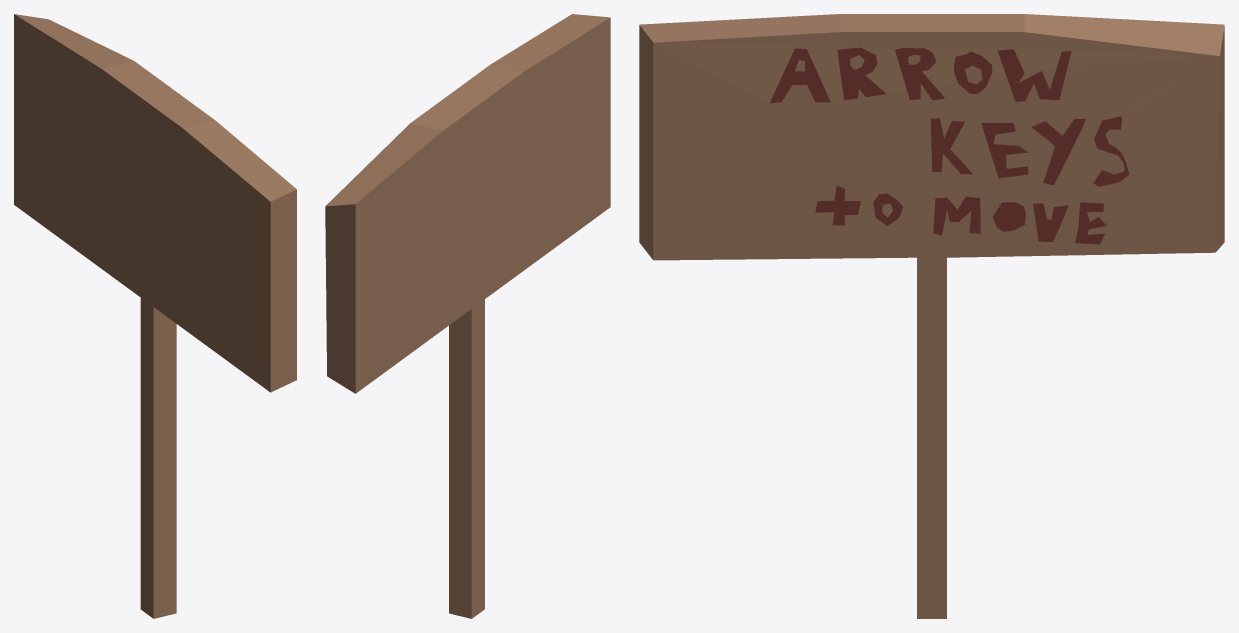
The model's file is Signnnn.fbx.
3 renders of one model, left to right at view 1: azimuth 30°, elevation 25°; view 2: azimuth 150°, elevation 25°; view 3: azimuth 270°, elevation 25°, orthographic. The views are drawn at different scales.
Parts seen in each view (by area): view 1: Cube; view 2: Cube; view 3: Cube.
Part boxes in pixels (bbox=[...]): Cube: bbox=[14, 14, 296, 618]; Cube: bbox=[325, 14, 610, 618]; Cube: bbox=[639, 14, 1224, 618].
Size of the model in its own units: 63.92 by 958 by 862.
